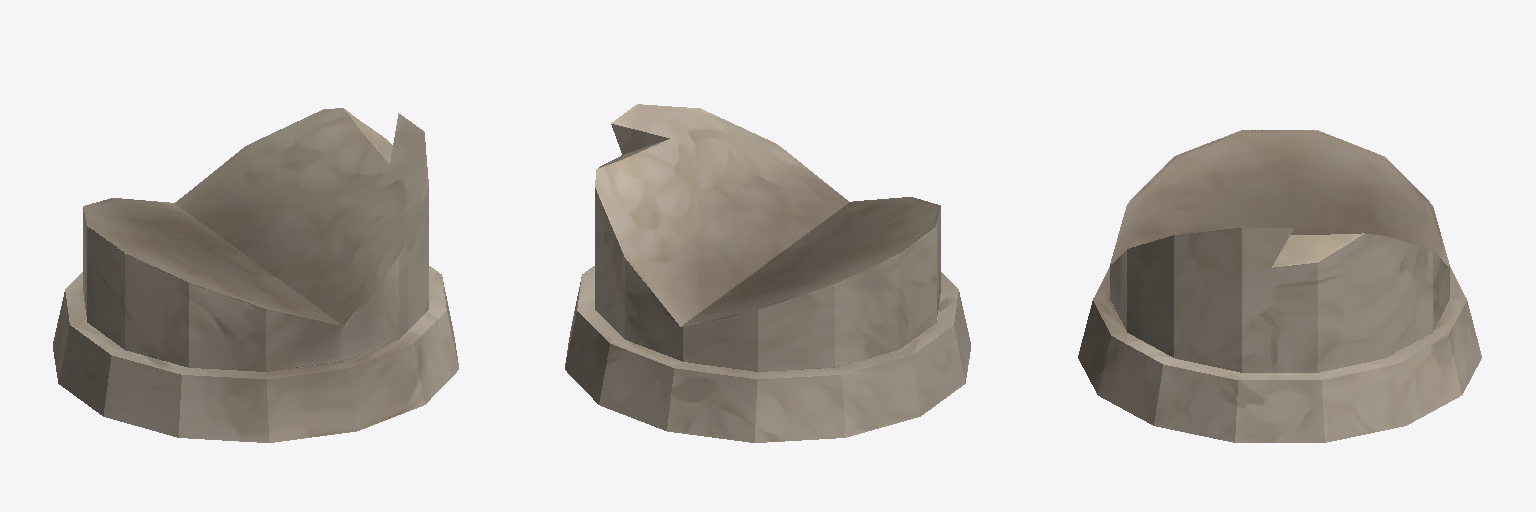
3 views of the same model, side by side, from view 1: azimuth 30°, elevation 25°; view 2: azimuth 150°, elevation 25°; view 3: azimuth 270°, elevation 25° (orthographic).
Parts seen in each view (by area): view 1: Cylinder.003; view 2: Cylinder.003; view 3: Cylinder.003.
Part boxes in pixels (x1,y1,x2,y2): Cylinder.003: (53, 108, 458, 442); Cylinder.003: (565, 104, 970, 442); Cylinder.003: (1078, 130, 1481, 442).
Bounding box in the file's own units: 6.2 × 3.43 × 6.2.
1 materials, 1 textured.